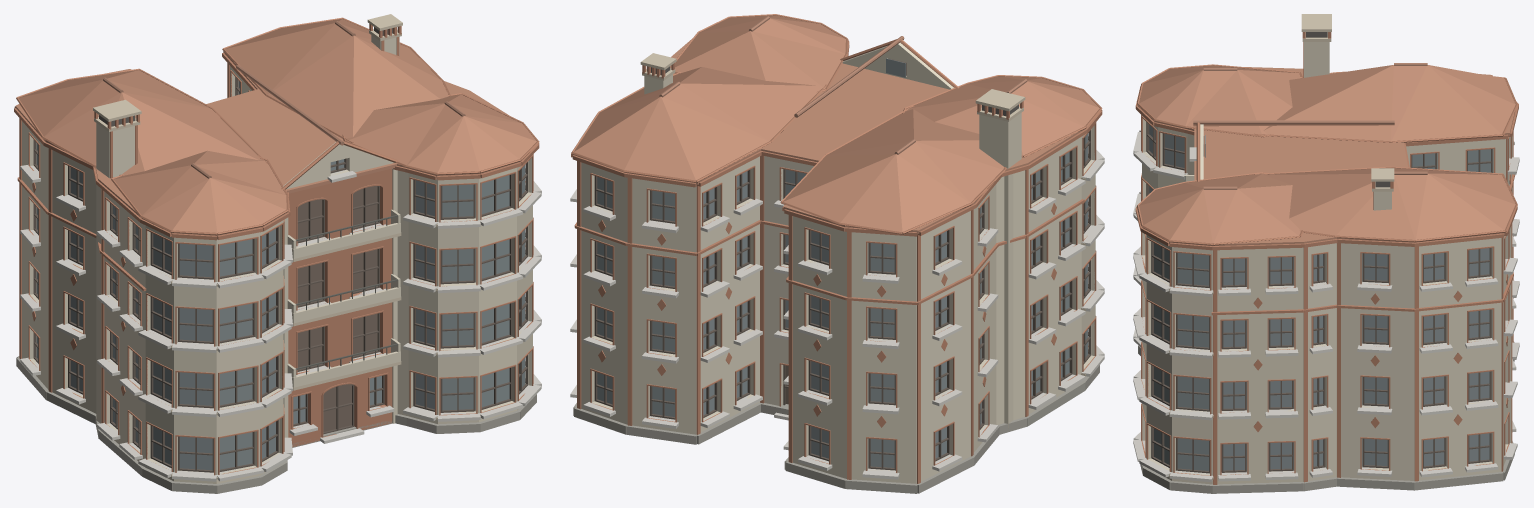
The model's file is huangpu-king-albert-corner-house-lod.glb.
The picture shows the model from 3 angles, left to right: view 1: azimuth 30°, elevation 25°; view 2: azimuth 150°, elevation 25°; view 3: azimuth 270°, elevation 25°; orthographic projection. The views are drawn at different scales.
Parts seen in each view (by area): view 1: 陕南邨西南转角住宅（亚尔培公寓）; view 2: 陕南邨西南转角住宅（亚尔培公寓）; view 3: 陕南邨西南转角住宅（亚尔培公寓）.
Part boxes in pixels (box(x1,y1,x2,y2)): 陕南邨西南转角住宅（亚尔培公寓）: box(14, 14, 541, 493); 陕南邨西南转角住宅（亚尔培公寓）: box(570, 14, 1104, 493); 陕南邨西南转角住宅（亚尔培公寓）: box(1133, 14, 1519, 493).
Size of the model in its own units: 19.76 by 15.58 by 17.7.
